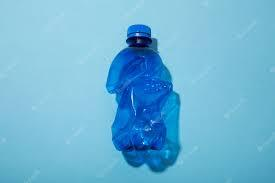plastic: (109, 22, 184, 153)
